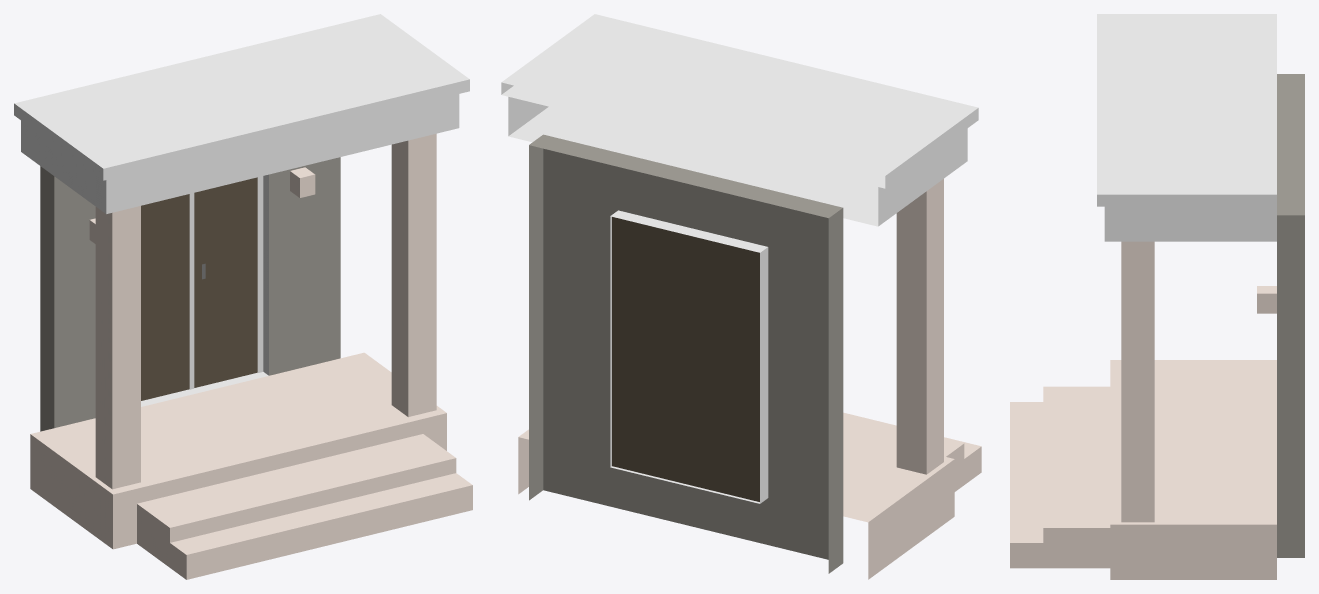
File: entrance.fbx
3 renders of one model, left to right at view 1: azimuth 30°, elevation 25°; view 2: azimuth 150°, elevation 25°; view 3: azimuth 270°, elevation 25°, orthographic. The views are drawn at different scales.
Parts seen in each view (by area): view 1: a2000s3/400/entrance; view 2: a2000s3/400/entrance; view 3: a2000s3/400/entrance.
Part boxes in pixels (<box>): a2000s3/400/entrance: <box>14,14,472,579</box>; a2000s3/400/entrance: <box>501,14,981,579</box>; a2000s3/400/entrance: <box>1010,14,1304,579</box>.
Bounding box in the file's own units: 3.84 × 3.9 × 2.65.
